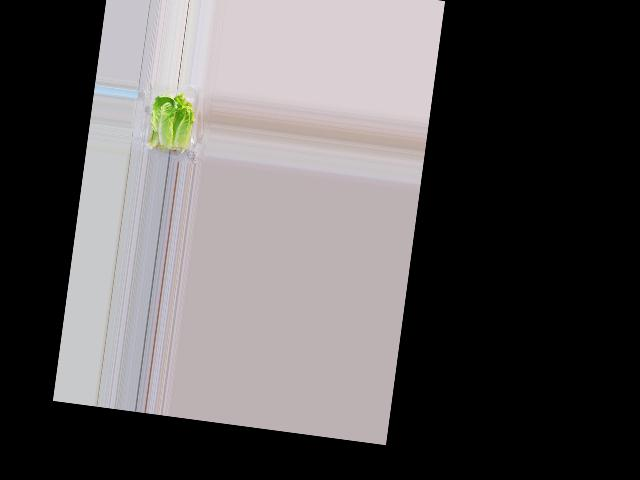lettuce: (147, 89, 197, 151)
